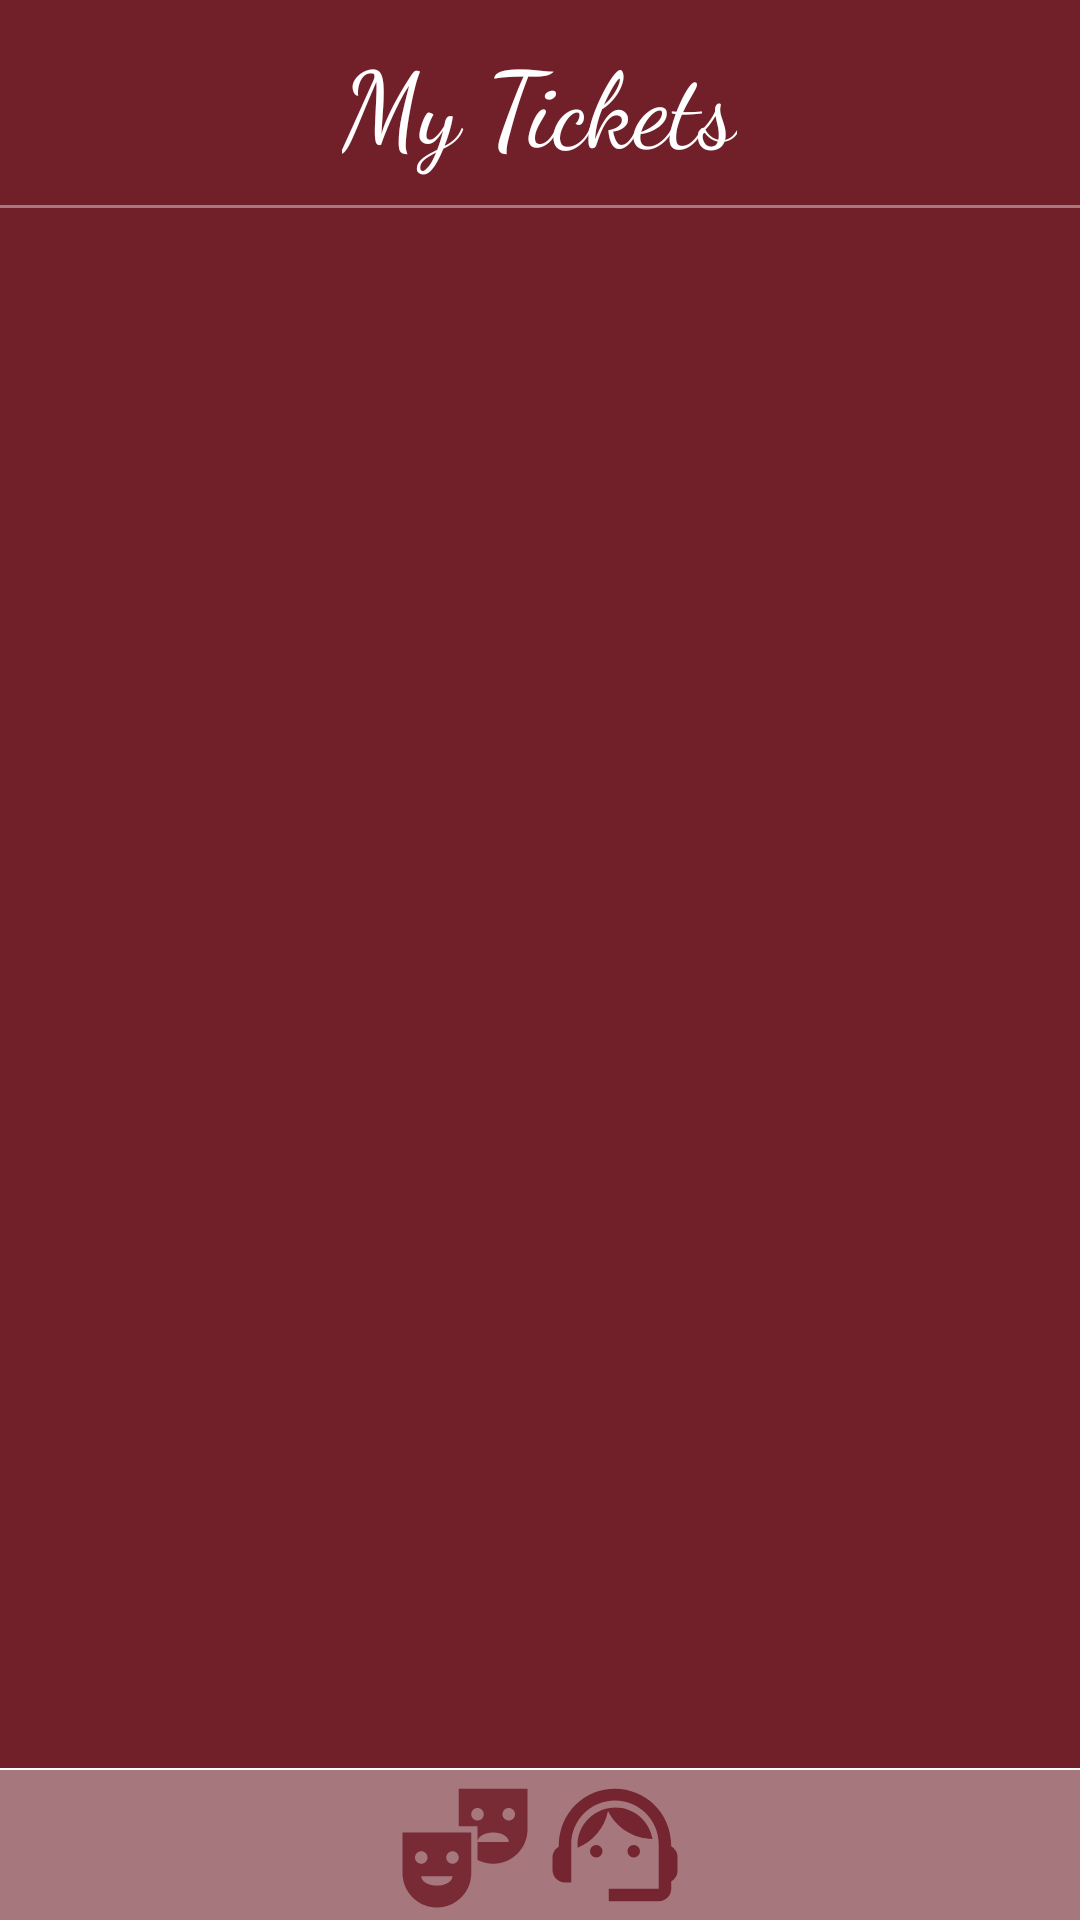

Where to tap for icons on this 1080w x 1920h app screen, as (x=x, y=y):
support: (x=615, y=1845)
theater: (x=465, y=1848)
